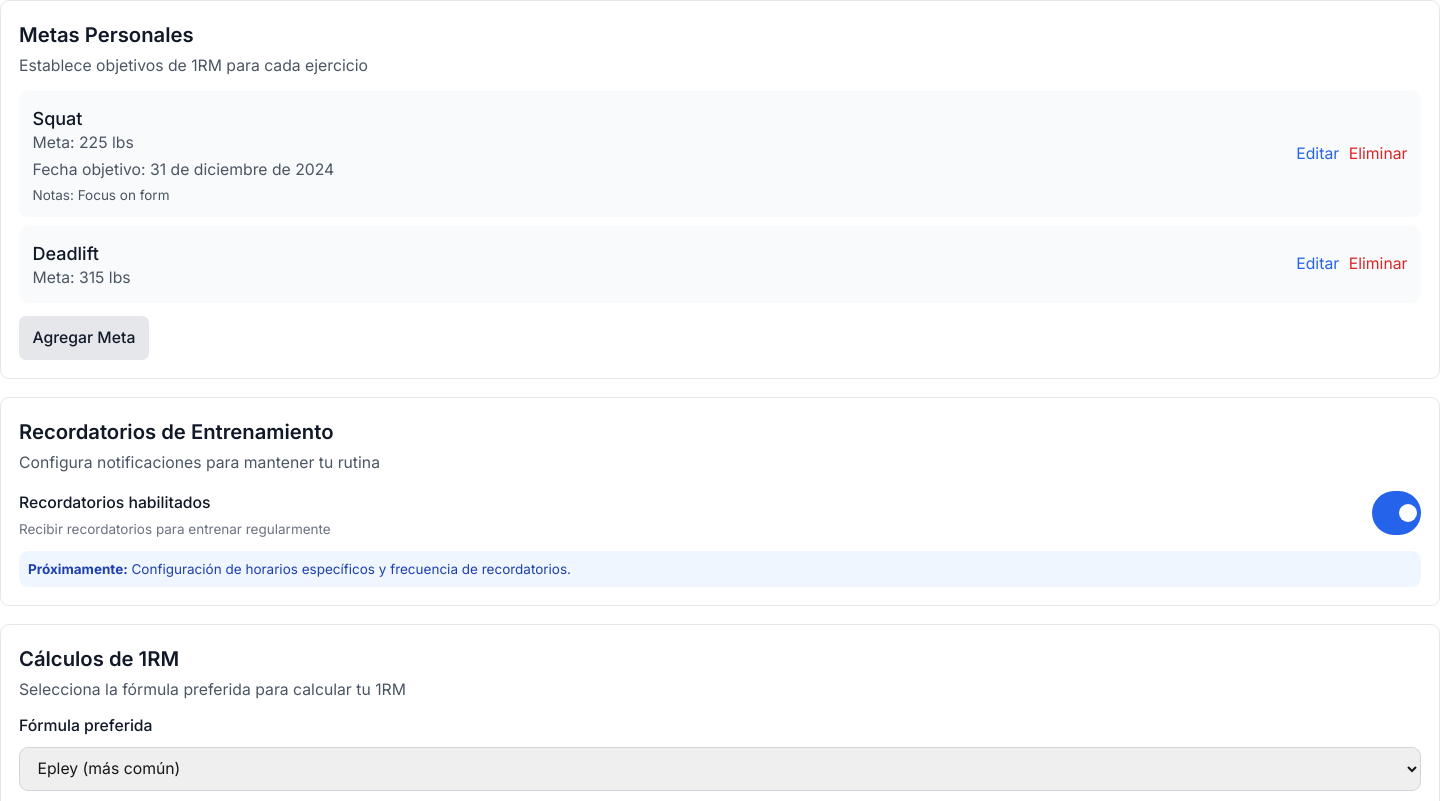
Scenario: TrainingSection › edits existing goal
The image size is (1440, 801).
Note: Click edit on first goal
Click the button "Editar" in the row of "31 de diciembre de 2024" at (1318, 154), box [1296,132,1340,176]
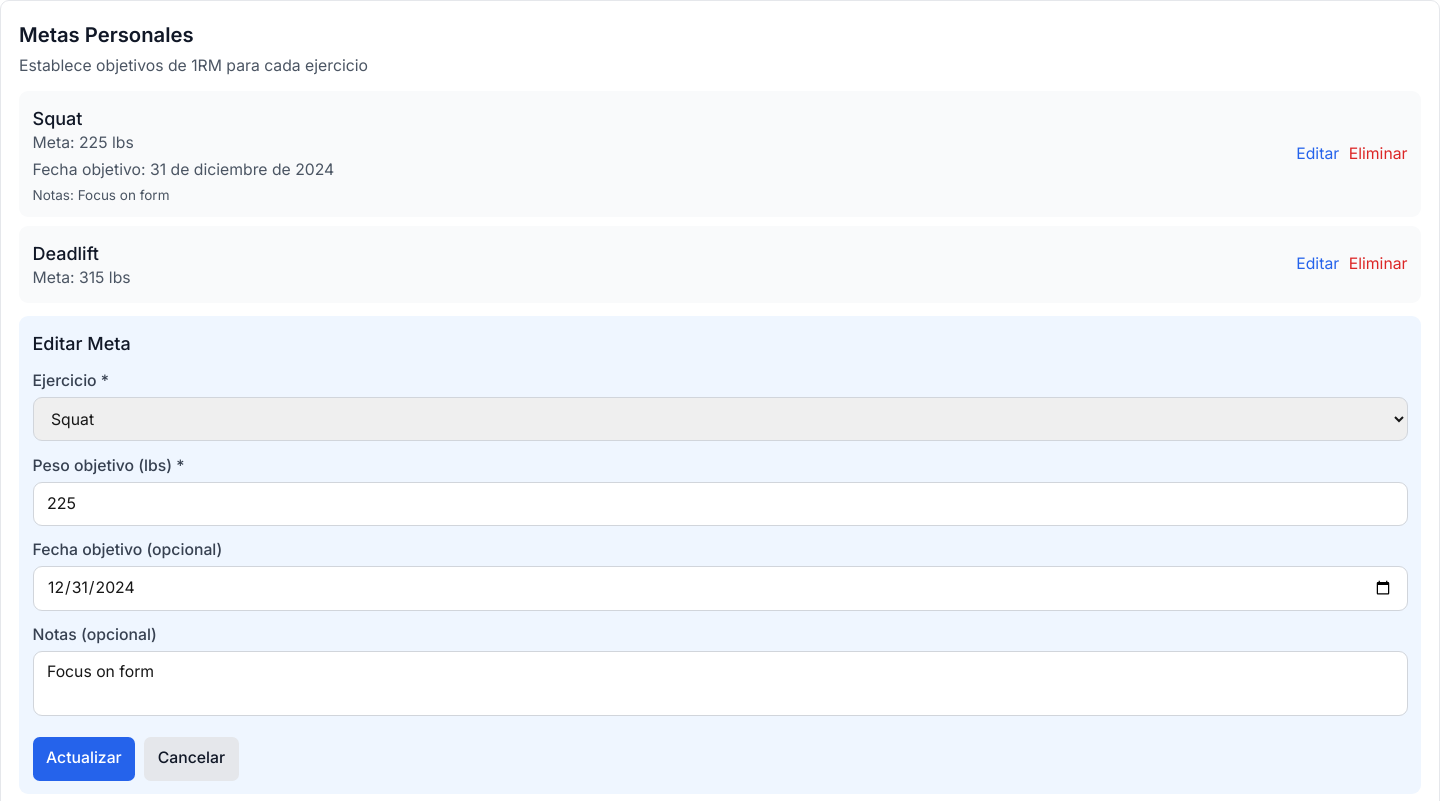
expect the heading "Editar Meta" is shown: met, box [32,332,131,354]
expect the number field showing "225" is shown: met, box [32,482,1408,526]
expect the date field showing "2024-12-31" is shown: met, box [32,566,1408,610]
